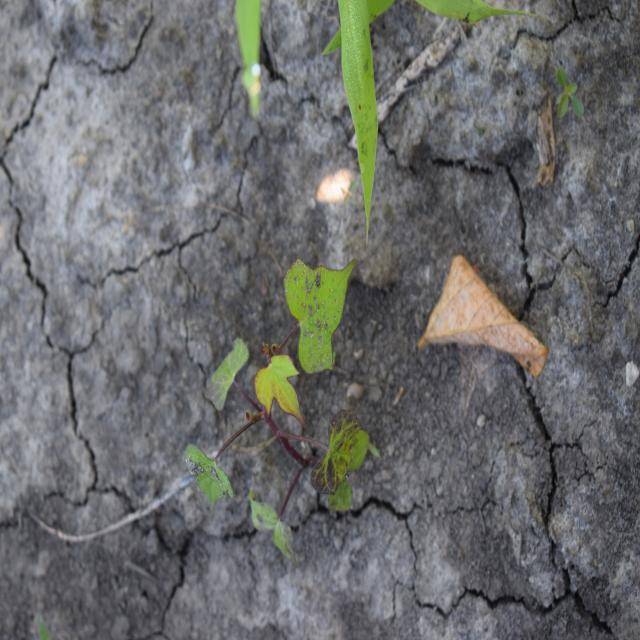MorningGlory: (183, 257, 371, 567)
